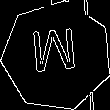M_S: (31, 29, 82, 83)
